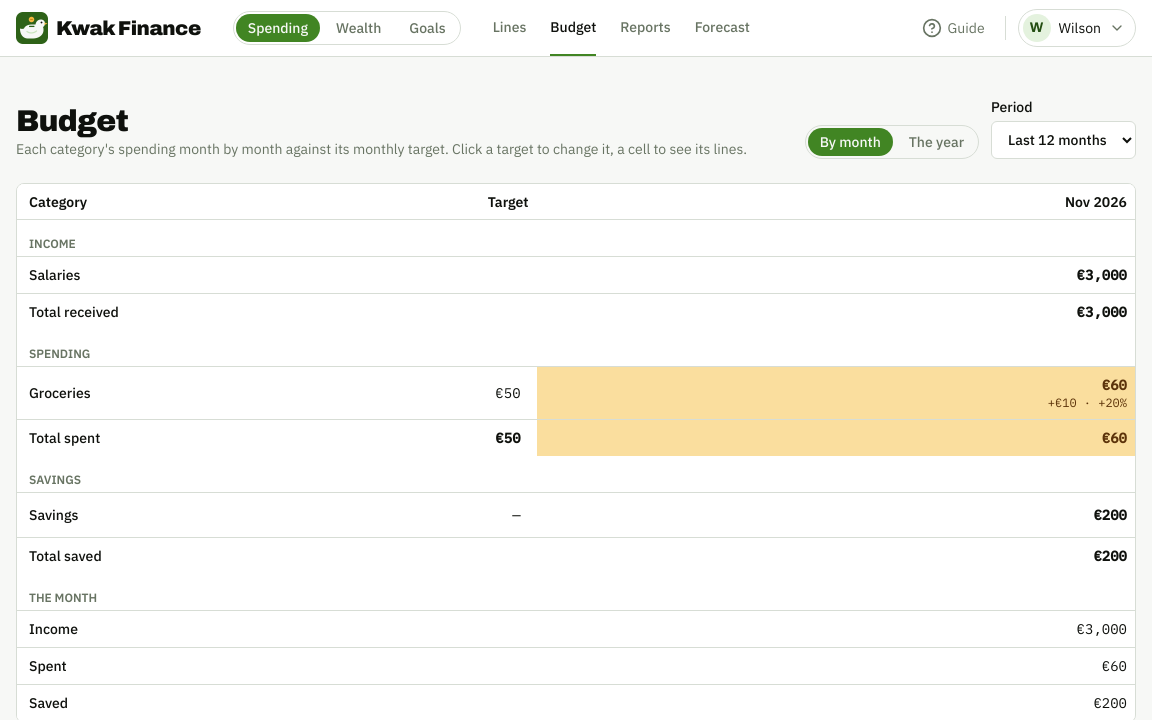
Scenario: a target is set from a month on
Click the button named "Target of Groceries": click(508, 393) [487,379,528,407]
(page scrolled)
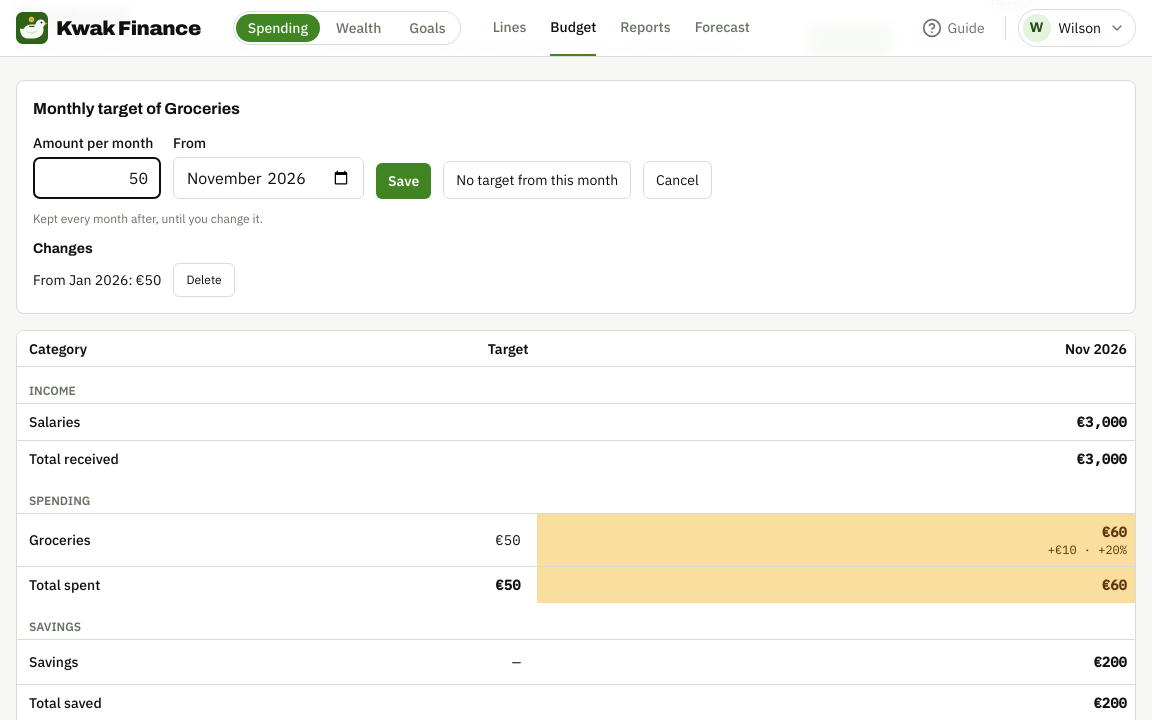
Now the field labelled "Amount per month" holds "50"
Replace the text in the field labelled "Amount per month" with "65,50": (97, 178) [33,157,161,199]
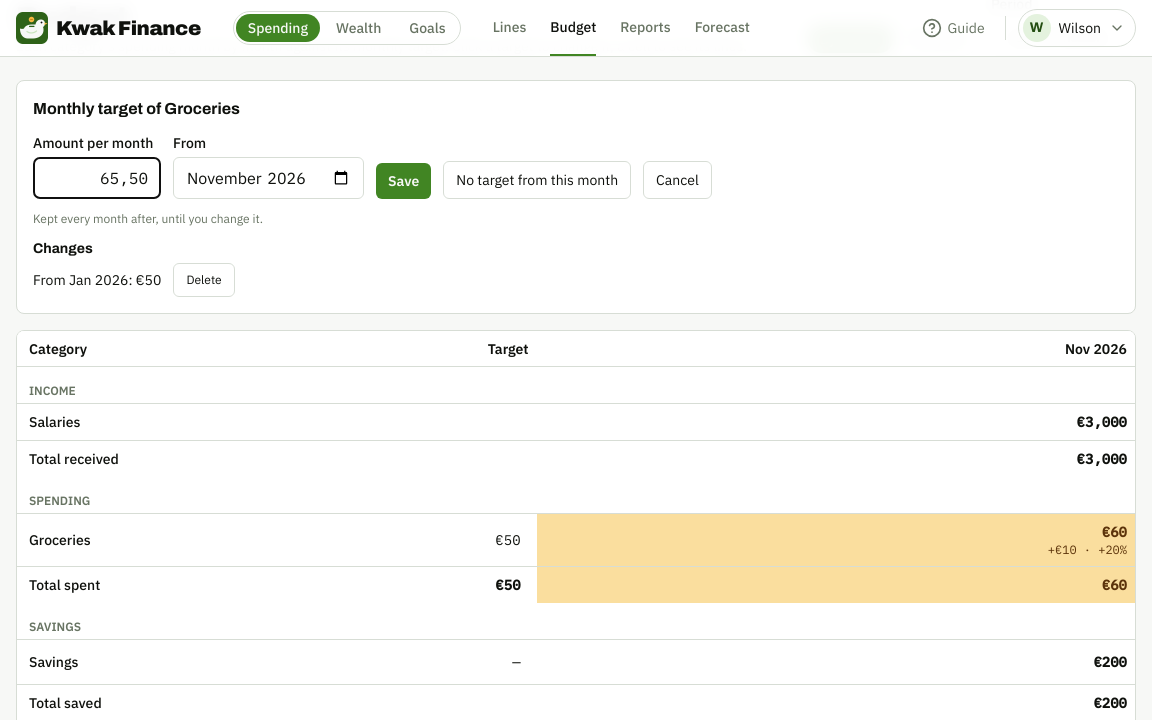
Click the button "Save": click(404, 181) [376,163,431,199]
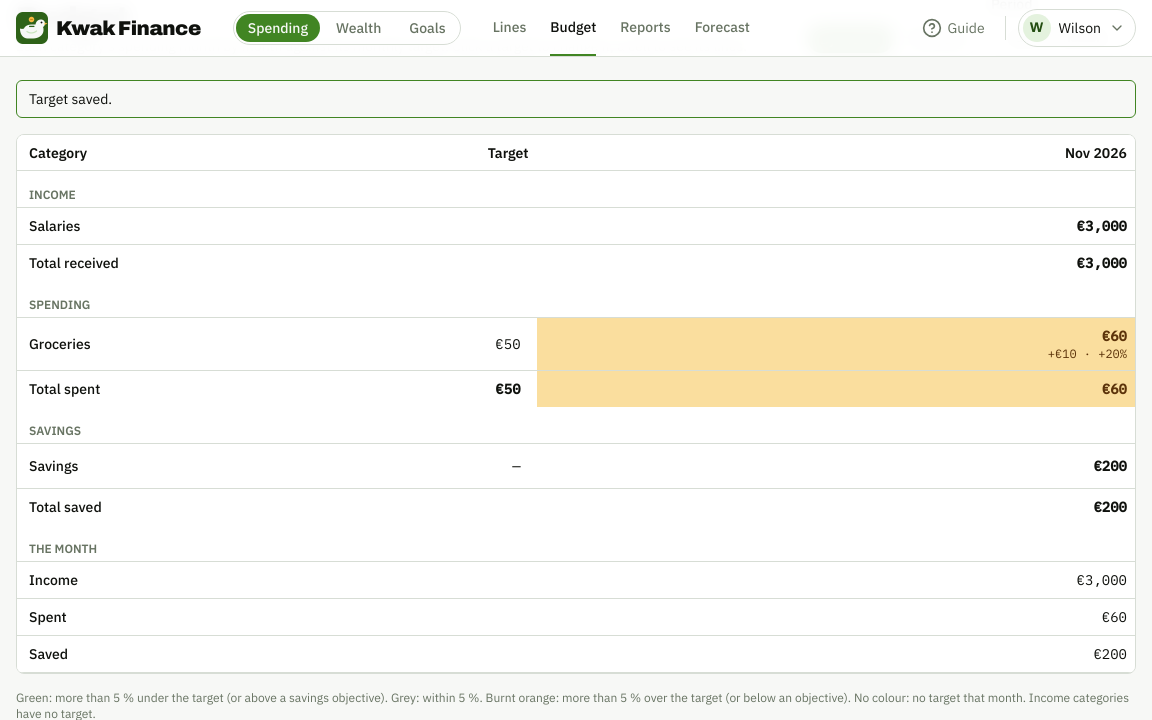
Now the text "Target saved." is shown, box [16,80,1136,118]
